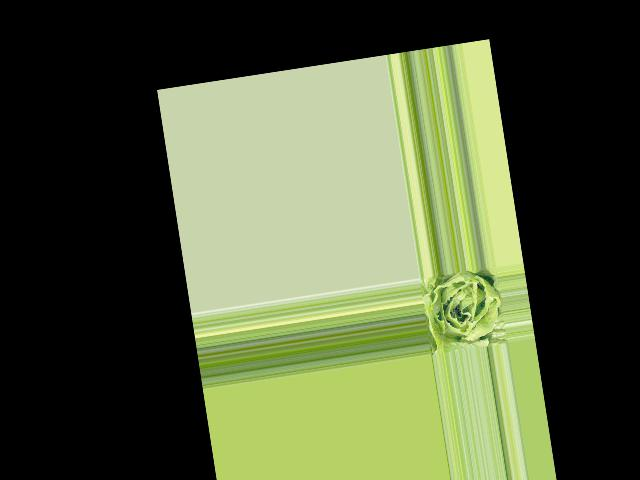lettuce: (420, 267, 507, 355)
